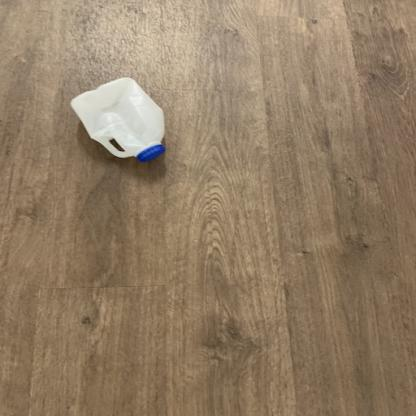trash: (68, 78, 172, 169)
